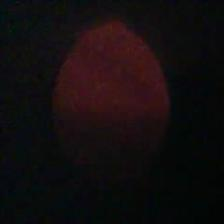fertile: (53, 18, 173, 180)
